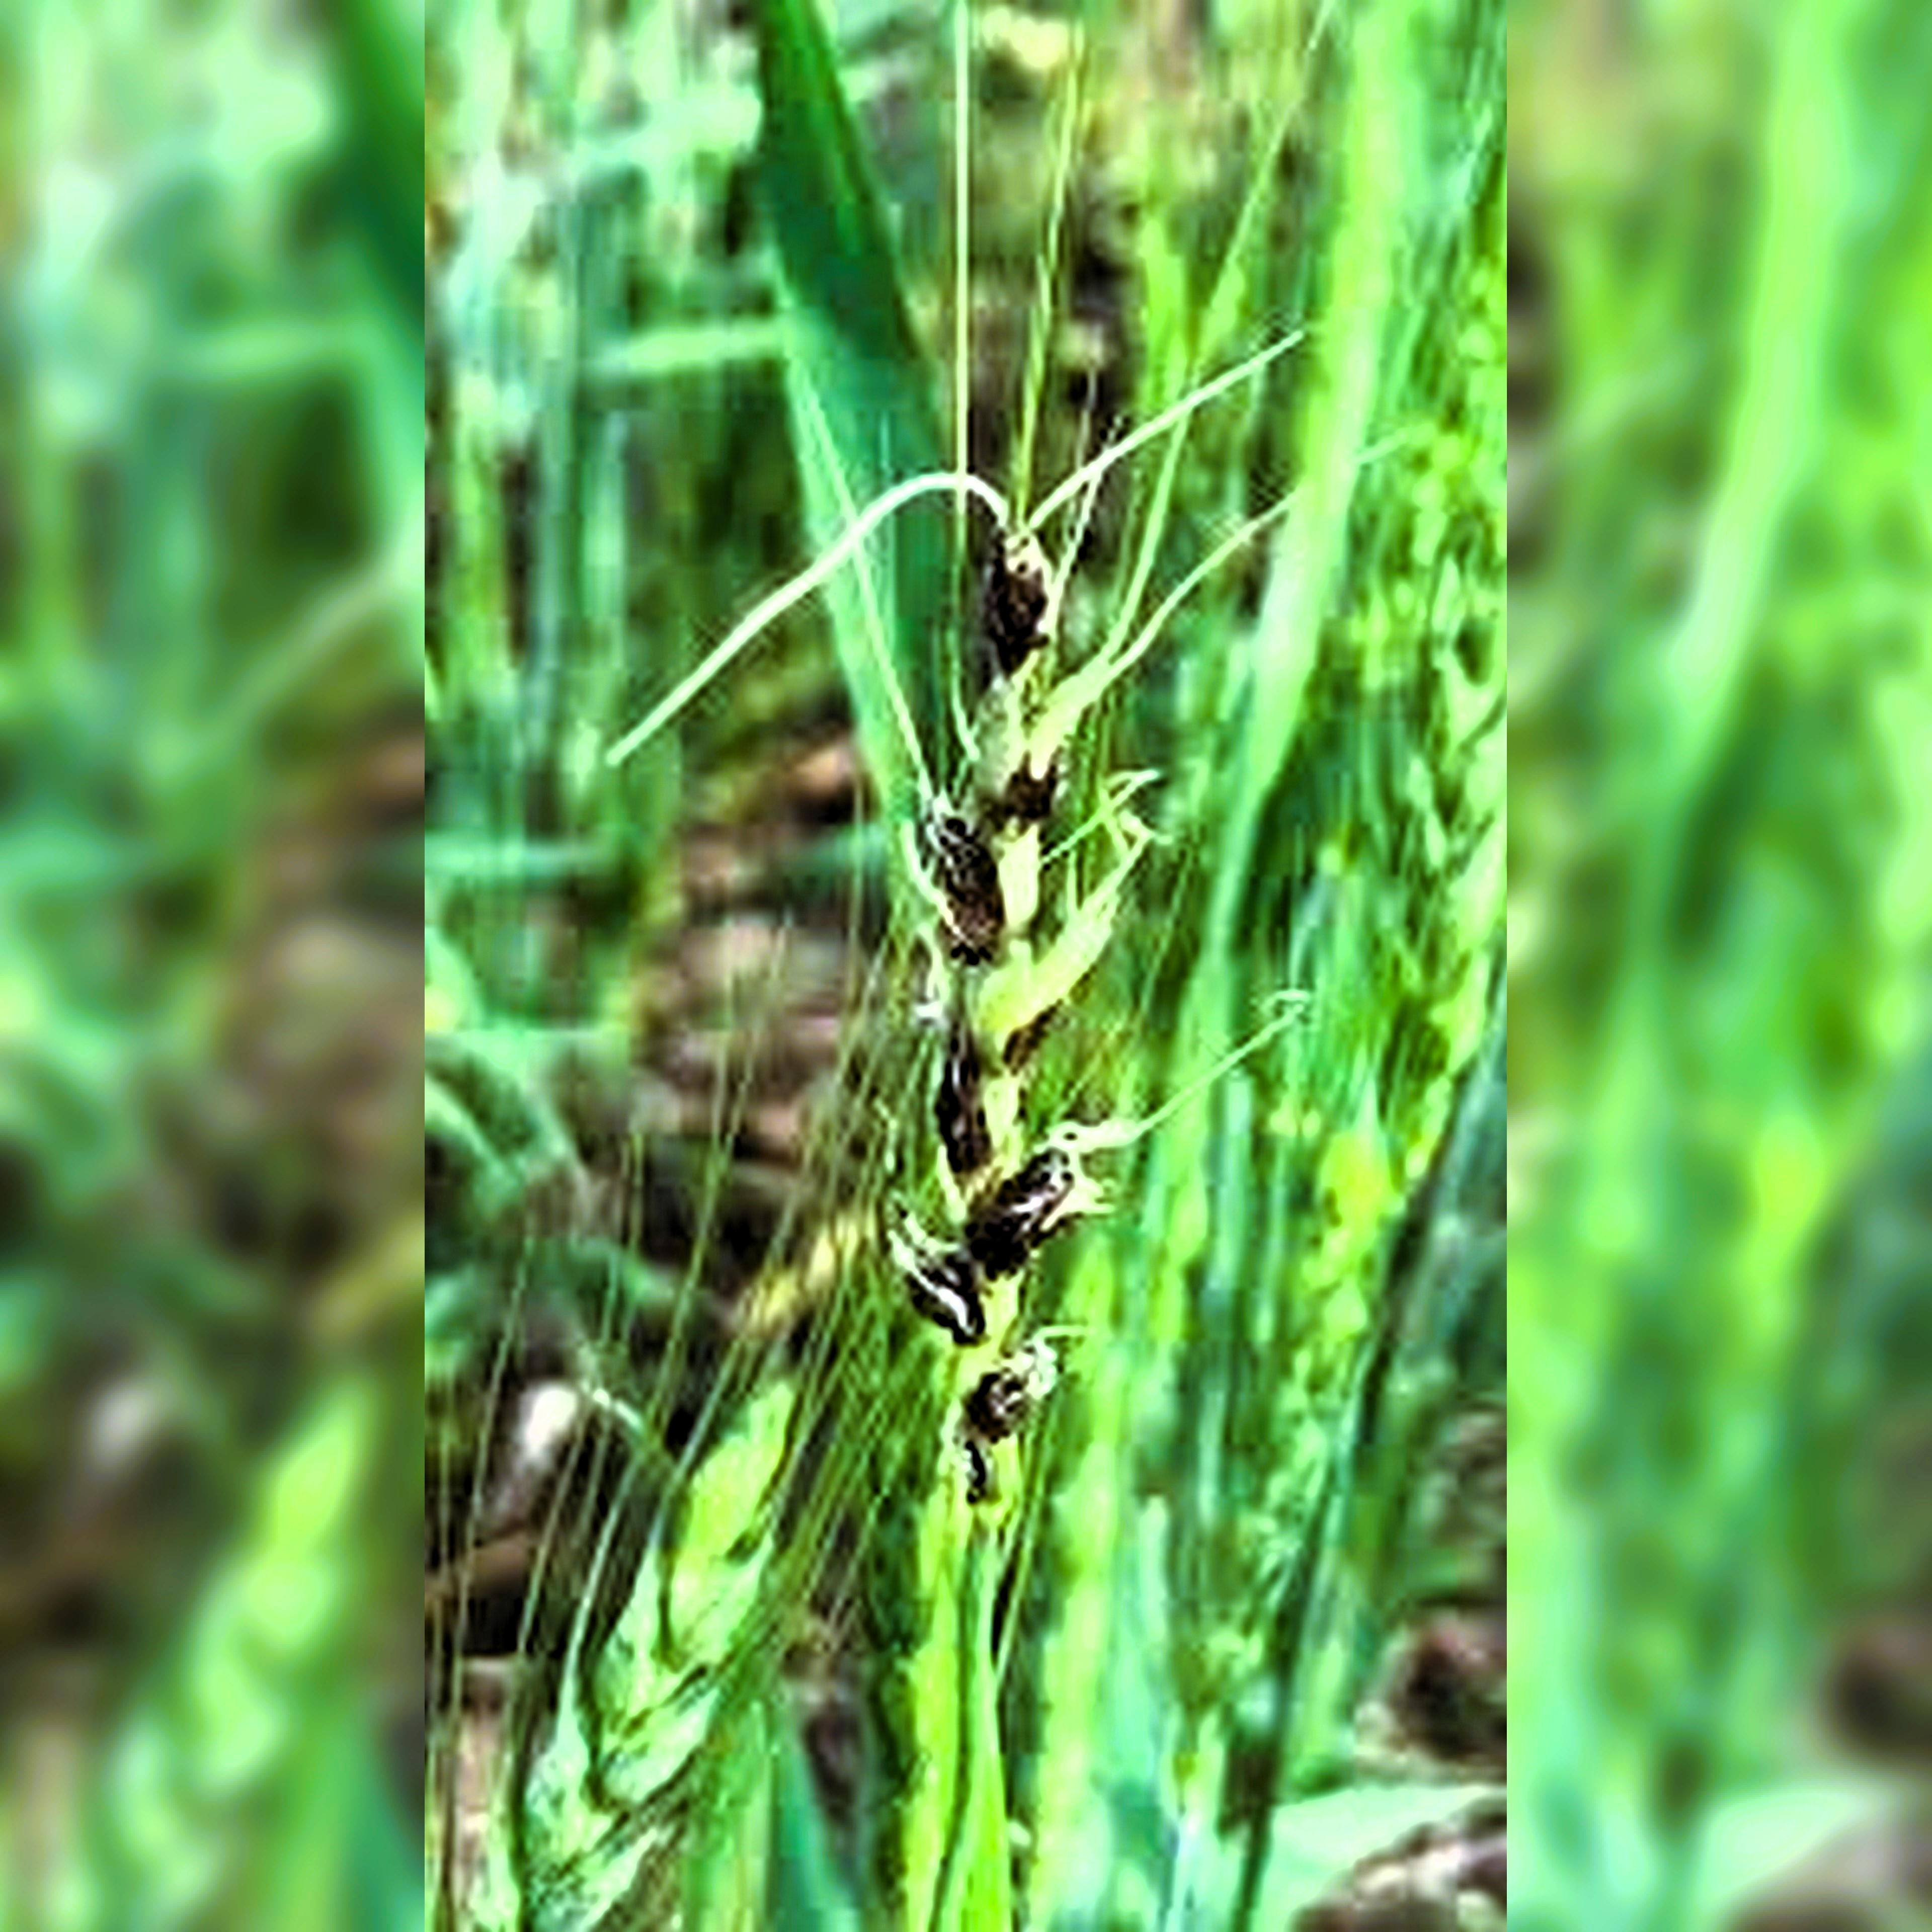Wheat Loose Smut: (878, 419, 1210, 1376)
